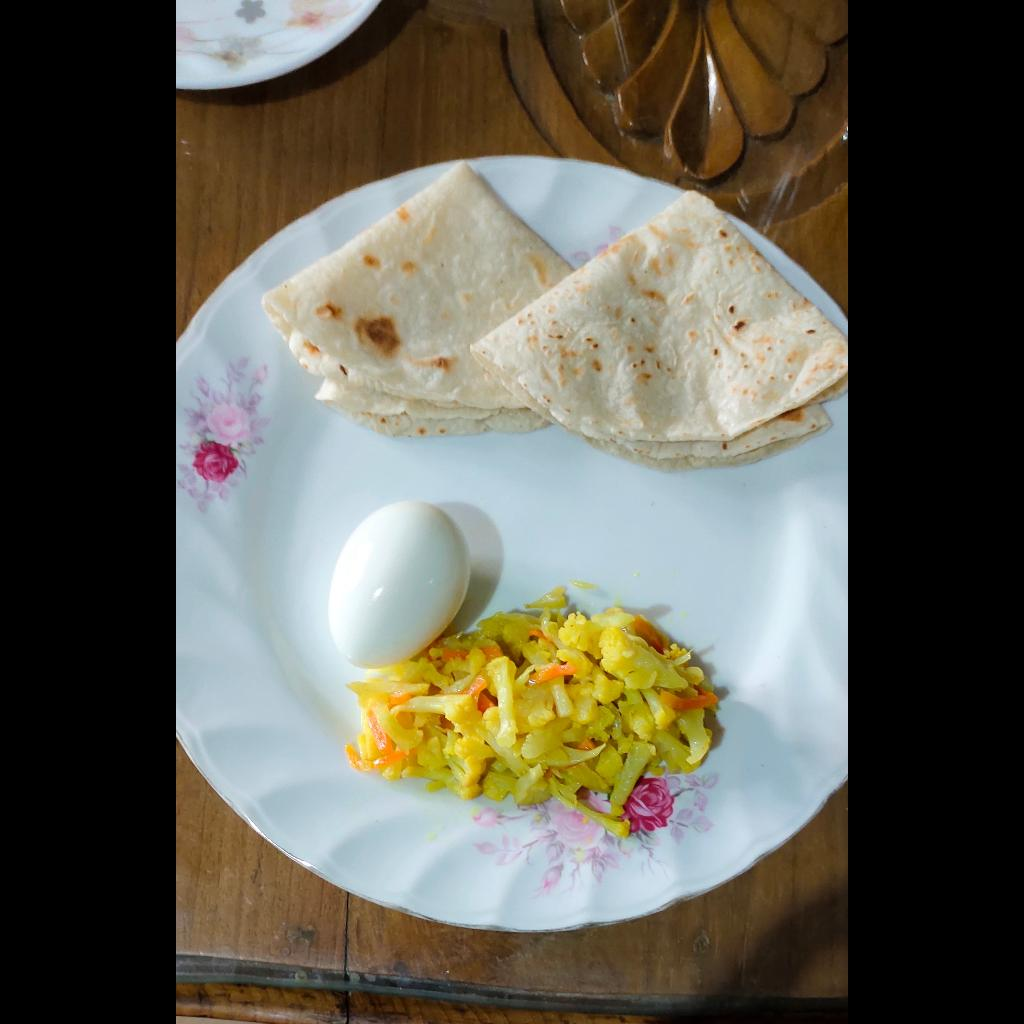egg-boiled: (326, 498, 470, 668)
ruti: (260, 157, 848, 467)
vaji: (347, 587, 727, 836)
